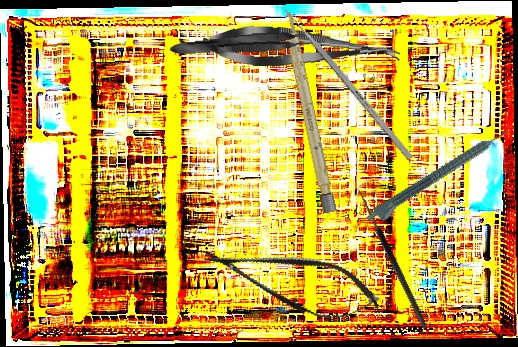Handpiece: (364, 126, 514, 230)
Hook Surgical: (347, 186, 430, 333)
Micro Scissor: (196, 228, 387, 334), (202, 22, 401, 74)
Pusher: (277, 0, 414, 161)
Scalpel Handle: (280, 8, 337, 214)
Tissue Forceps: (168, 27, 323, 60)
